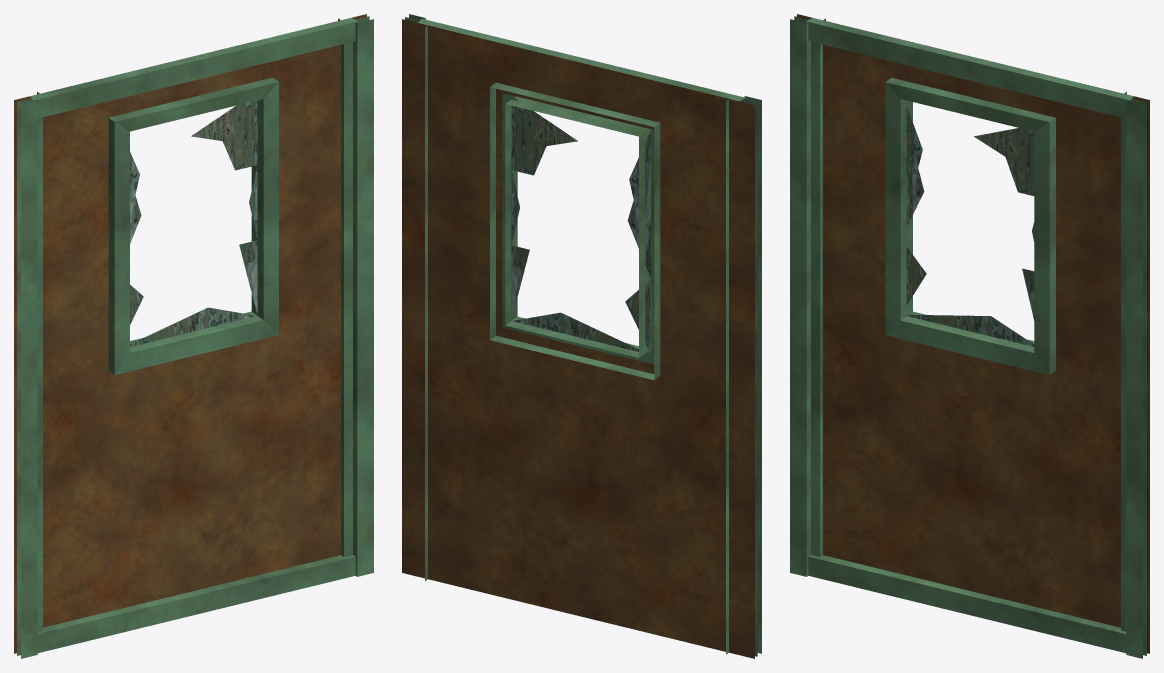
Rendered from Wall1_UpperDeck.FBX.
3 views of the same model, side by side, from view 1: azimuth 30°, elevation 25°; view 2: azimuth 150°, elevation 25°; view 3: azimuth 330°, elevation 25° (orthographic).
Visible parts, largest first — view 1: Object006; view 2: Object006; view 3: Object006.
Boxes of the visible parts, <box> form: Object006: <box>14,14,373,658</box>; Object006: <box>402,14,761,658</box>; Object006: <box>790,14,1149,658</box>.
Bounding box in the file's own units: 200 × 300 × 12.84.
